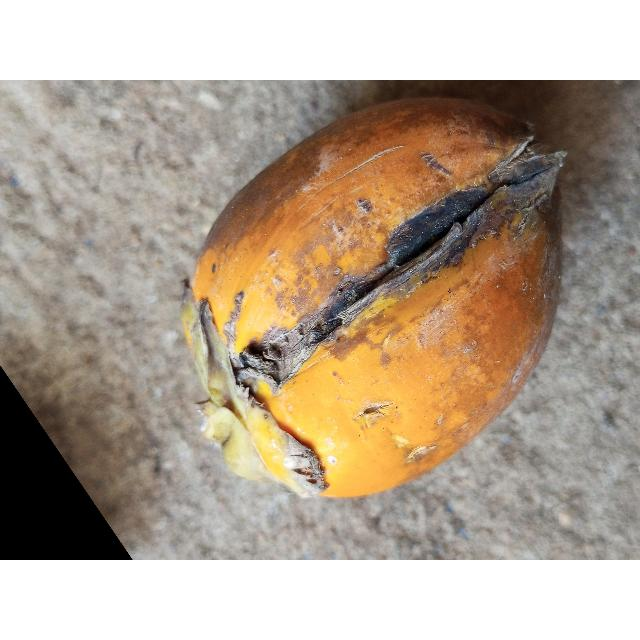damaged: (182, 97, 567, 501)
